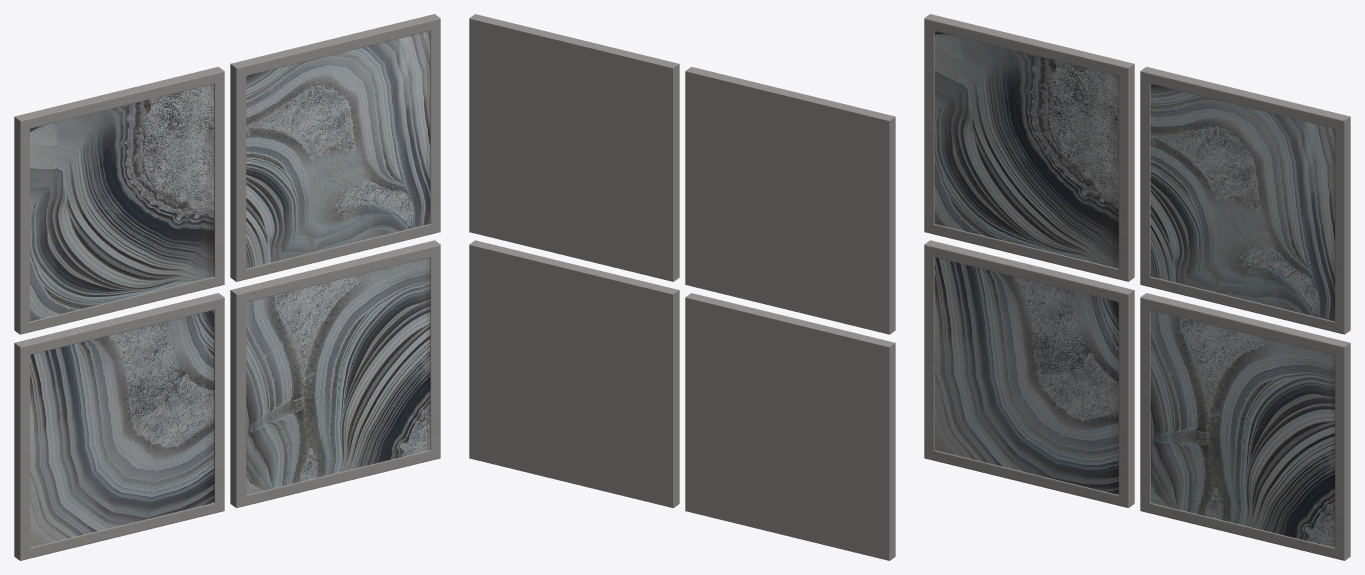
Rendered from B073NZFTGF.glb.
3 renders of one model, left to right at view 1: azimuth 30°, elevation 25°; view 2: azimuth 150°, elevation 25°; view 3: azimuth 330°, elevation 25°, orthographic.
Parts seen in each view (by area): view 1: RootNode; view 2: RootNode; view 3: RootNode.
Part boxes in pixels (bbox=[...]): RootNode: bbox=[14, 14, 440, 560]; RootNode: bbox=[469, 14, 895, 560]; RootNode: bbox=[924, 14, 1350, 560].
Bounding box in the file's own units: 1.12 × 1.12 × 0.0287.
Materials: 1 (1 with a texture image).
